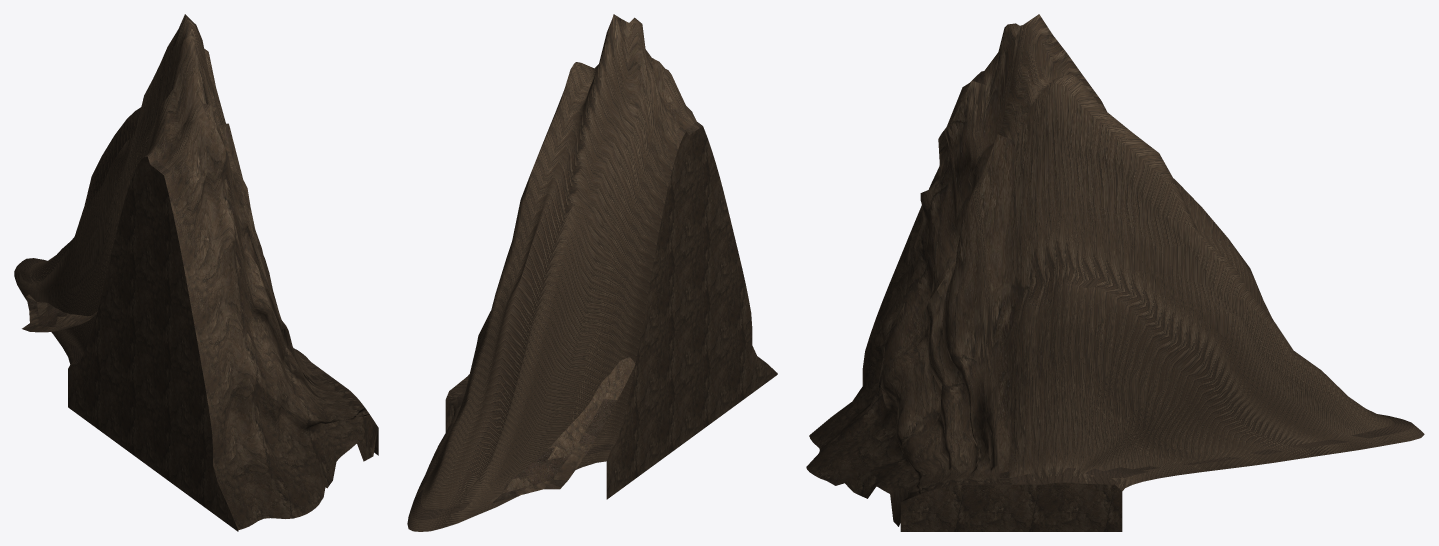
Rendered from seacliff_endcap_right_h8_a_v5_dead.glb.
The picture shows the model from 3 angles, left to right: view 1: azimuth 30°, elevation 25°; view 2: azimuth 150°, elevation 25°; view 3: azimuth 270°, elevation 25°; orthographic projection. The views are drawn at different scales.
Parts seen in each view (by area): view 1: seacliff_endcap_right_h8_a; view 2: seacliff_endcap_right_h8_a; view 3: seacliff_endcap_right_h8_a.
Boxes of the visible parts, x1,y1,x2,y2 form: seacliff_endcap_right_h8_a: [14, 14, 378, 531]; seacliff_endcap_right_h8_a: [407, 14, 777, 531]; seacliff_endcap_right_h8_a: [806, 14, 1424, 531].
Bounding box in the file's own units: 6 × 13.31 × 16.52.
2 materials, 2 textured.
